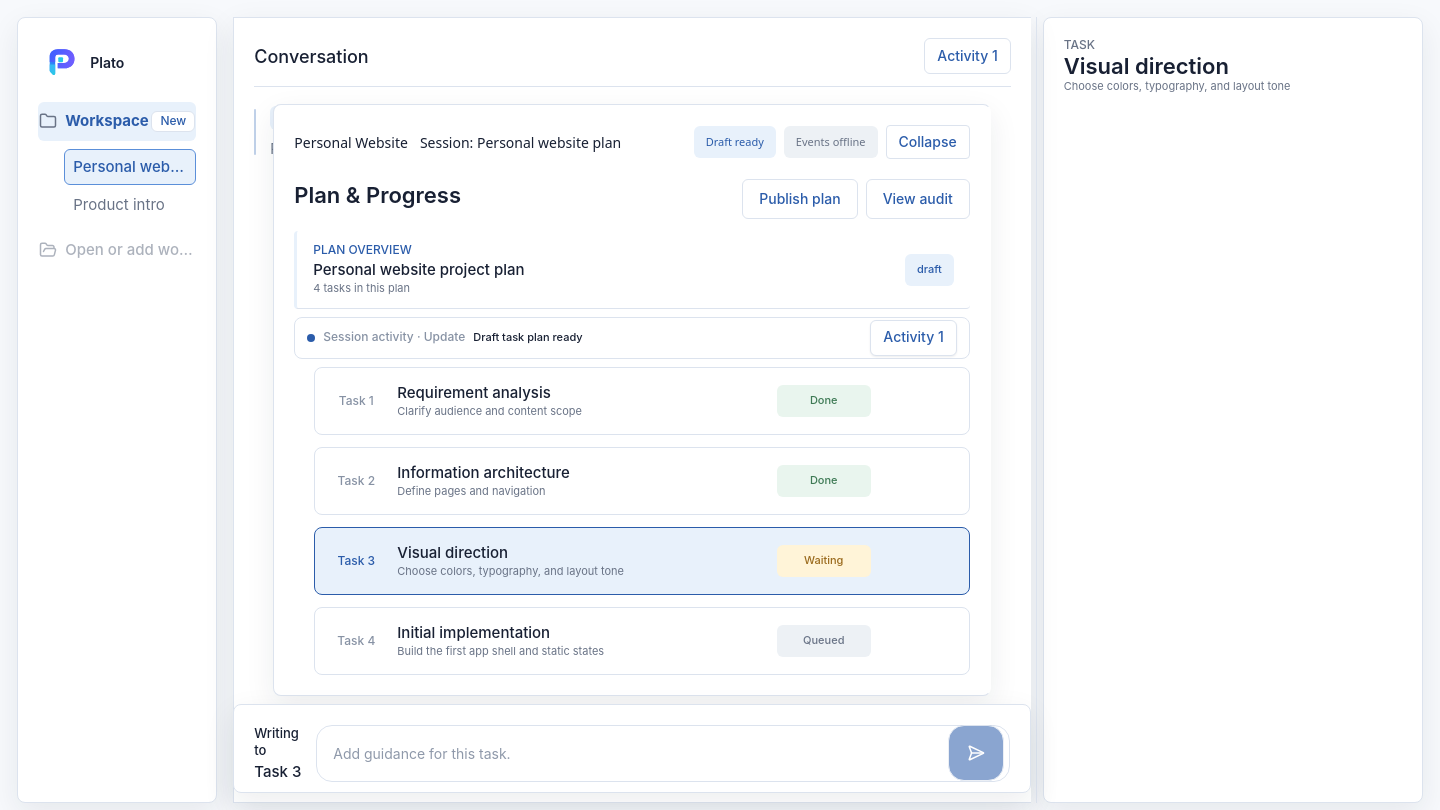
Test: MainPageWorkbench layout › loads typed activity when the activity overlay opens
Click the button with aria-label "Open task updates" at (914, 338), box [870,320,957,356]
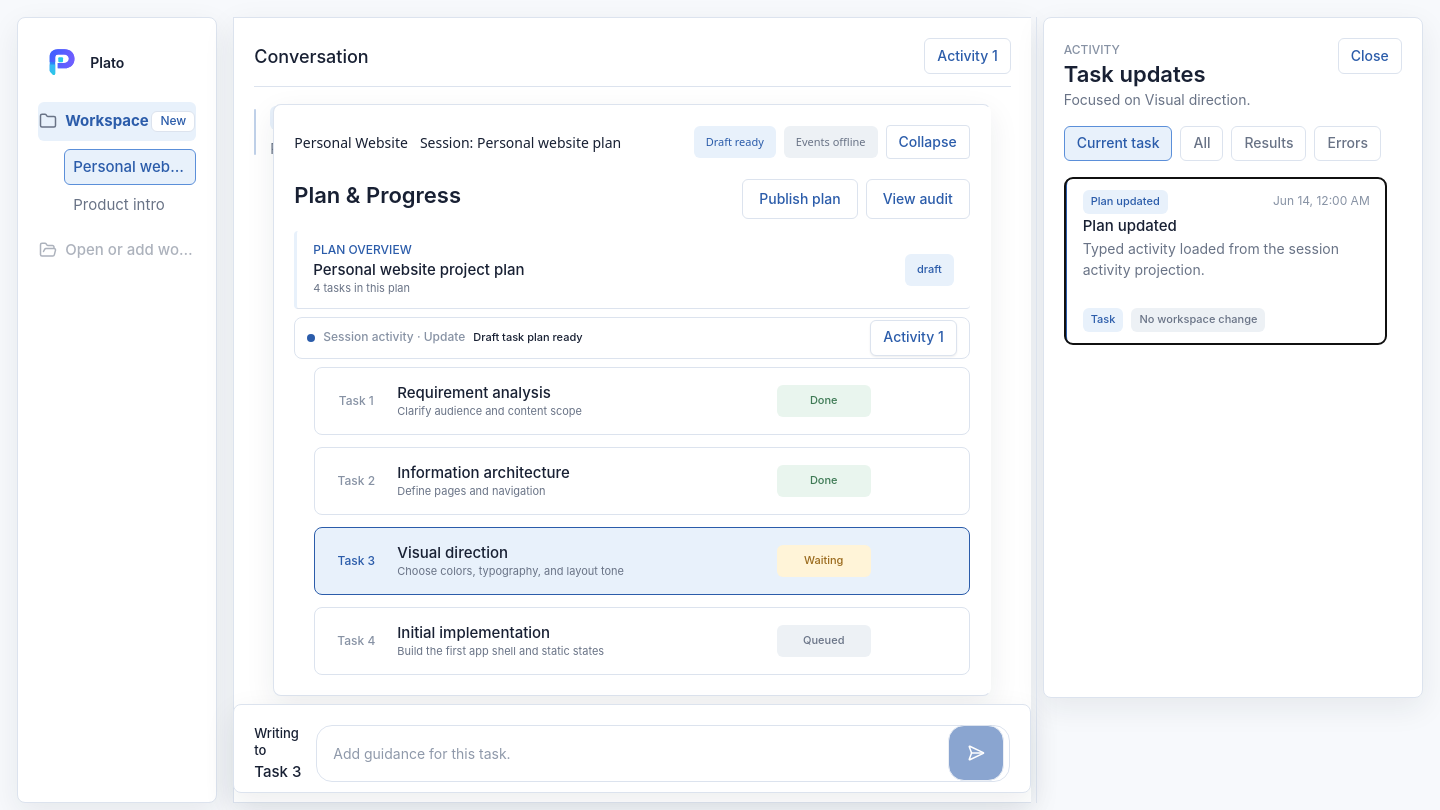
Now the text "Plan updated" is shown 2 times, box [1083,190,1168,214]; [1083,216,1177,235]
